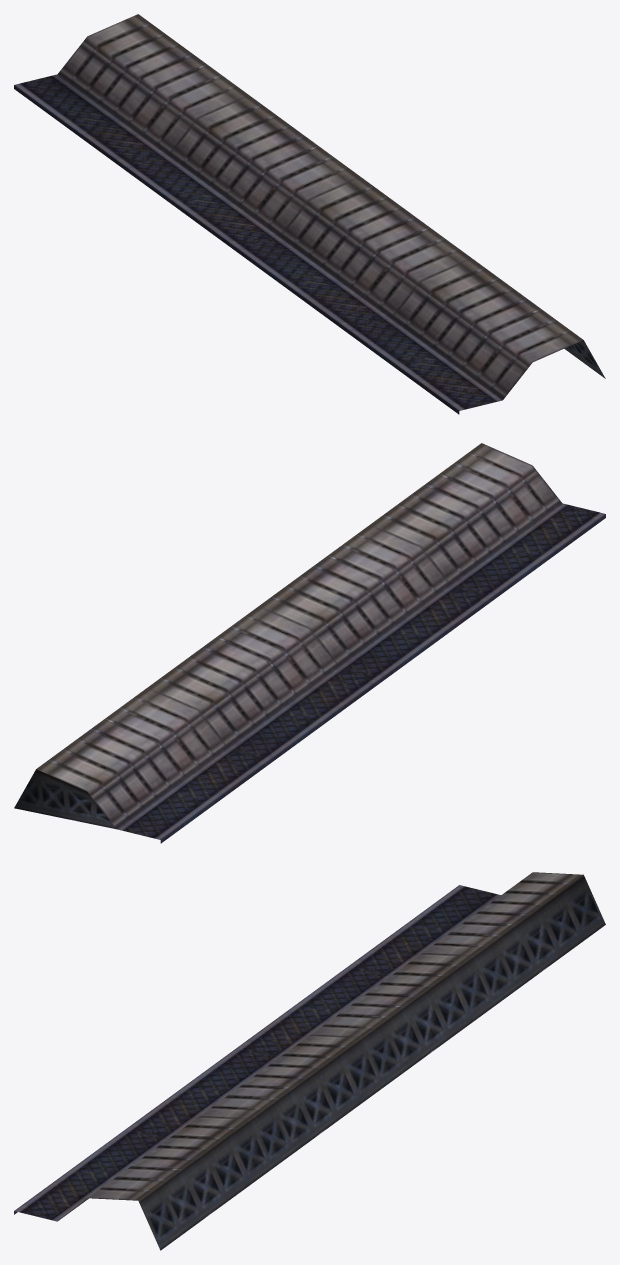
File: zc_lekesigang_lufengbian01.FBX
3 views of the same model, one above another, from view 1: azimuth 30°, elevation 25°; view 2: azimuth 150°, elevation 25°; view 3: azimuth 330°, elevation 25° (orthographic).
Parts seen in each view (by area): view 1: zc_lekesigang_lufengbian01; view 2: zc_lekesigang_lufengbian01; view 3: zc_lekesigang_lufengbian01.
Boxes of the visible parts, x1=… form: zc_lekesigang_lufengbian01: x1=14, y1=14, x2=605, y2=414; zc_lekesigang_lufengbian01: x1=14, y1=443, x2=605, y2=843; zc_lekesigang_lufengbian01: x1=14, y1=872, x2=605, y2=1250.
Bounding box in the file's own units: 246 × 71.55 × 1295.
Materials: 1 (1 with a texture image).
